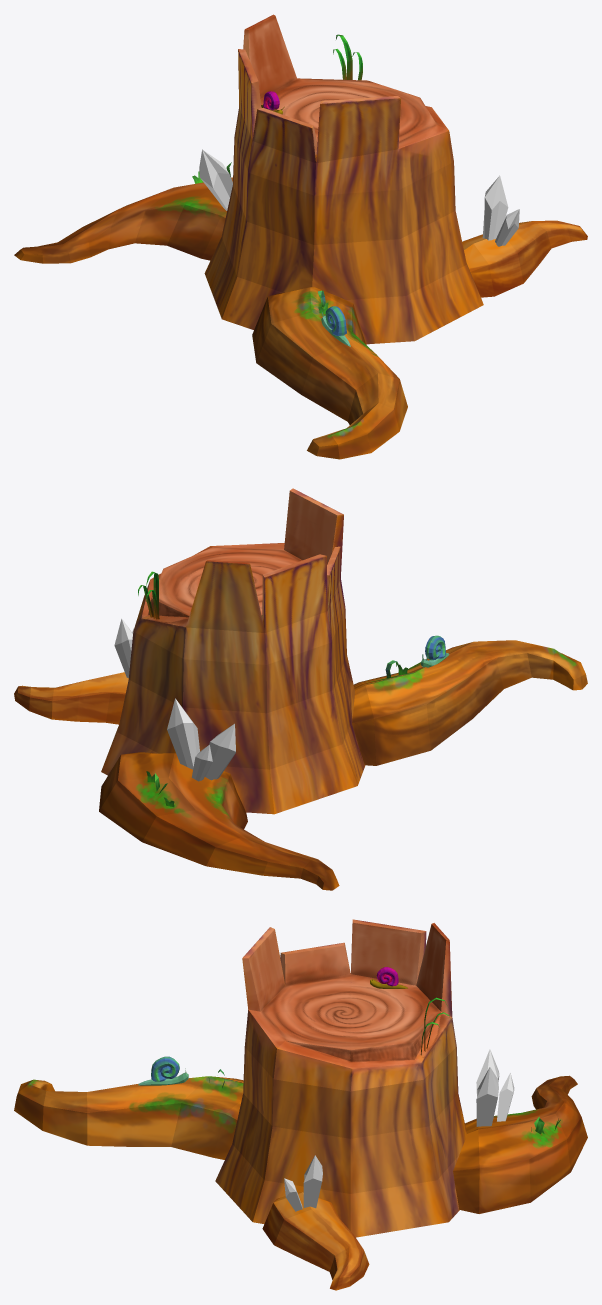
Rendered from stump.fbx.
3 renders of one model, top to bottom at view 1: azimuth 30°, elevation 25°; view 2: azimuth 150°, elevation 25°; view 3: azimuth 270°, elevation 25°, orthographic. The views are drawn at different scales.
Visible parts, largest first — view 1: Cube, Cube.003, Cube.002, Cube.001, Cube.007, Cube.004; view 2: Cube, Cube.003, Cube.002, Cube.001, Cube.006, Cube.007, Cube.004; view 3: Cube, Cube.003, Cube.002, Cube.001, Cube.006, Cube.004, Cube.011, Cube.008.
Boxes of the visible parts, x1,y1,x2,y2 form: Cube: (204,14,483,344); Cube.003: (252,287,407,459); Cube.002: (14,177,232,263); Cube.001: (462,220,587,297); Cube.007: (199,149,232,210); Cube.004: (482,175,508,240); Cube: (101,488,365,814); Cube.003: (352,640,587,765); Cube.002: (99,752,339,890); Cube.001: (14,672,128,724); Cube.006: (167,698,199,769); Cube.007: (205,723,235,780); Cube.004: (114,618,132,677); Cube: (215,919,467,1237); Cube.003: (14,1076,243,1159); Cube.002: (453,1075,587,1213); Cube.001: (262,1192,369,1290); Cube.006: (476,1067,498,1126); Cube.004: (303,1155,322,1208); Cube.011: (151,1056,179,1081); Cube.008: (497,1072,514,1121).
Size of the model in its own units: 431 by 221 by 496.
Materials: 1 (1 with a texture image).
